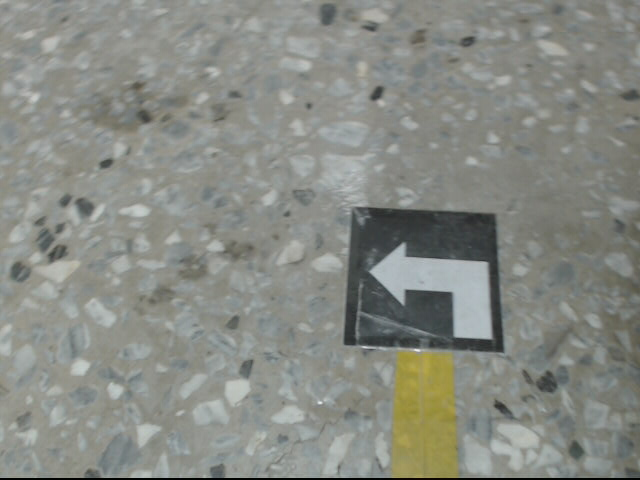left: (346, 205, 510, 354)
